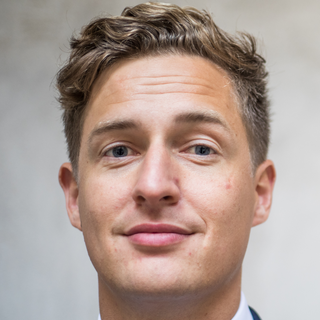eye: (168, 133, 224, 165), (95, 136, 141, 165)
